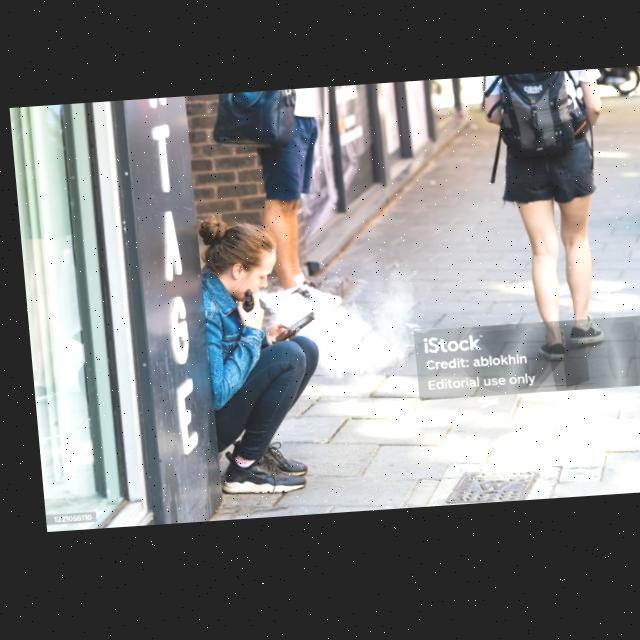vape: (236, 292, 248, 315)
